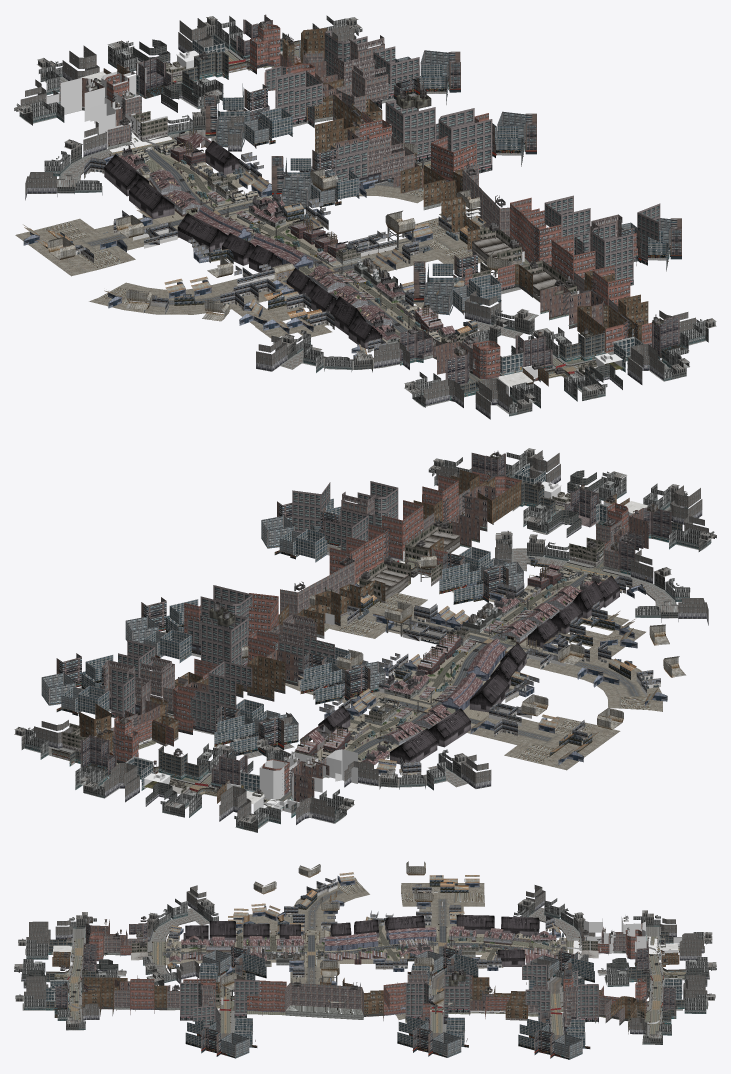
Rendered from downtown.glb.
3 views of the same model, one above another, from view 1: azimuth 30°, elevation 25°; view 2: azimuth 150°, elevation 25°; view 3: azimuth 270°, elevation 25° (orthographic). The views are drawn at different scales.
Visible parts, largest first — view 1: tile_0_0, tile_0_-3, tile_0_-2, tile_0_2, tile_0_1, tile_0_-1, tile_-1_-2, tile_-1_1, tile_-2_-1, tile_-1_-1, tile_-1_0, tile_-2_0 (+11 smaller); view 2: tile_0_0, tile_0_2, tile_0_-2, tile_0_-3, tile_0_1, tile_0_-1, tile_-1_-2, tile_-1_1, tile_-2_-1, tile_-2_0, tile_1_-2, tile_-1_0 (+10 smaller); view 3: tile_0_-3, tile_0_0, tile_0_2, tile_0_-1, tile_-1_-2, tile_-1_1, tile_0_-2, tile_-2_-1, tile_-1_-1, tile_0_1, tile_1_-2, tile_-2_0 (+18 smaller).
Part boxes in pixels (bbox=[...]): tile_0_0: bbox=[233, 81, 476, 229]; tile_0_-3: bbox=[404, 294, 689, 419]; tile_0_-2: bbox=[413, 221, 637, 342]; tile_0_2: bbox=[14, 14, 323, 125]; tile_0_1: bbox=[168, 36, 419, 151]; tile_0_-1: bbox=[348, 161, 546, 287]; tile_-1_-2: bbox=[256, 257, 485, 372]; tile_-1_1: bbox=[25, 111, 239, 200]; tile_-2_-1: bbox=[89, 255, 331, 338]; tile_-1_-1: bbox=[222, 220, 397, 311]; tile_-1_0: bbox=[129, 173, 311, 254]; tile_-2_0: bbox=[15, 207, 233, 276]; tile_0_0: bbox=[187, 593, 422, 741]; tile_0_2: bbox=[75, 712, 354, 832]; tile_0_-2: bbox=[323, 475, 555, 604]; tile_0_-3: bbox=[450, 448, 716, 551]; tile_0_1: bbox=[109, 640, 298, 760]; tile_0_-1: bbox=[280, 536, 483, 644]; tile_-1_-2: bbox=[446, 531, 708, 644]; tile_-1_1: bbox=[283, 705, 491, 790]; tile_-2_-1: bbox=[525, 609, 685, 711]; tile_-2_0: bbox=[467, 671, 623, 770]; tile_1_-2: bbox=[261, 481, 433, 569]; tile_-1_0: bbox=[350, 652, 509, 746]; tile_0_-3: bbox=[14, 912, 129, 1017]; tile_0_0: bbox=[367, 943, 501, 1023]; tile_0_2: bbox=[597, 910, 716, 1022]; tile_0_-1: bbox=[222, 958, 378, 1019]; tile_-1_-2: bbox=[127, 885, 304, 974]; tile_-1_1: bbox=[472, 885, 598, 966]; tile_0_-2: bbox=[129, 943, 266, 1017]; tile_-2_-1: bbox=[228, 864, 369, 935]; tile_-1_-1: bbox=[243, 919, 378, 967]; tile_0_1: bbox=[483, 948, 662, 1034]; tile_1_-2: bbox=[180, 980, 257, 1058]; tile_-2_0: bbox=[365, 861, 484, 926].
Bounding box in the file's own units: 147 × 21.5 × 239.
Materials: 103 (101 with a texture image).
